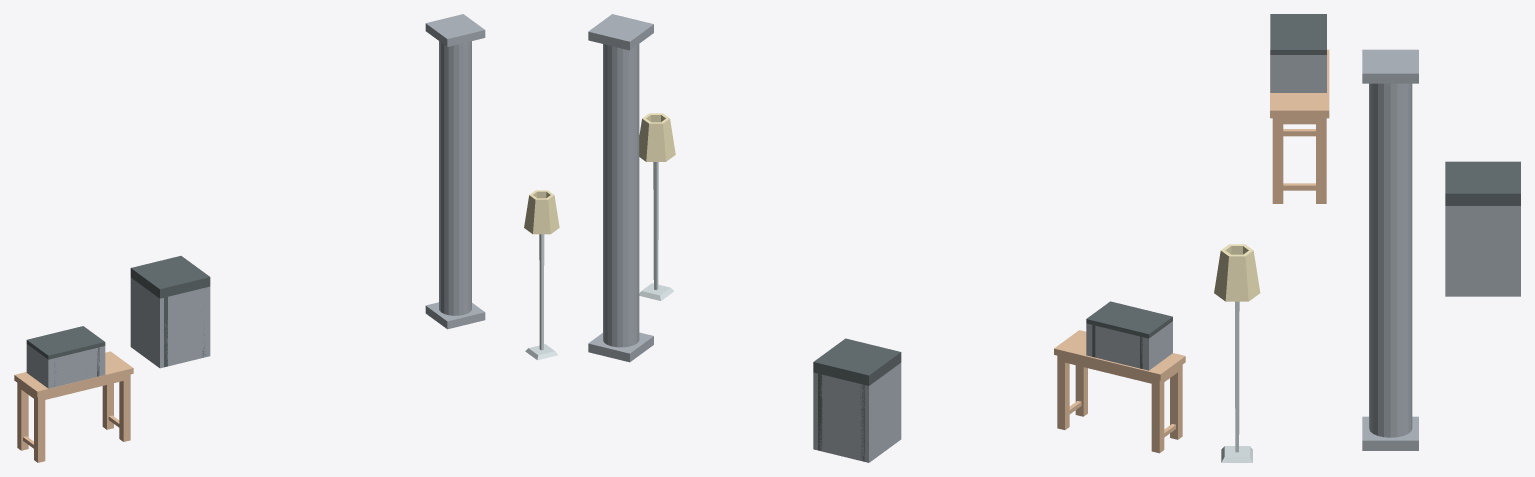
3 renders of one model, left to right at view 1: azimuth 30°, elevation 25°; view 2: azimuth 150°, elevation 25°; view 3: azimuth 270°, elevation 25°, orthographic. The views are drawn at different scales.
Parts seen in each view (by area): view 1: column_cyan__column_cyan shaft, bin_gray__bin_gray shell, sidetable_brown__sideTable(Clone), case_brown__case_brown shell, lamp_white__lampRoundFloor(Clone), bin_gray__bin_gray lid, case_brown__case_brown lid, column_cyan__column_cyan capital, column_cyan__column_cyan plinth; view 2: column_cyan__column_cyan shaft, bin_gray__bin_gray shell, sidetable_brown__sideTable(Clone), case_brown__case_brown shell, lamp_white__lampRoundFloor(Clone), bin_gray__bin_gray lid, case_brown__case_brown lid, column_cyan__column_cyan capital, column_cyan__column_cyan plinth; view 3: column_cyan__column_cyan shaft, bin_gray__bin_gray shell, sidetable_brown__sideTable(Clone), lamp_white__lampRoundFloor(Clone), bin_gray__bin_gray lid, case_brown__case_brown lid, case_brown__case_brown shell, column_cyan__column_cyan capital, column_cyan__column_cyan plinth.
Boxes of the visible parts, x1=… form: column_cyan__column_cyan shaft: x1=439, y1=41, x2=471, y2=315; bin_gray__bin_gray shell: x1=130, y1=277, x2=210, y2=368; sidetable_brown__sideTable(Clone): x1=14, y1=351, x2=133, y2=462; case_brown__case_brown shell: x1=26, y1=344, x2=105, y2=388; lamp_white__lampRoundFloor(Clone): x1=524, y1=190, x2=559, y2=360; bin_gray__bin_gray lid: x1=130, y1=256, x2=210, y2=298; case_brown__case_brown lid: x1=26, y1=326, x2=105, y2=359; column_cyan__column_cyan capital: x1=425, y1=14, x2=485, y2=46; column_cyan__column_cyan plinth: x1=425, y1=302, x2=485, y2=329; column_cyan__column_cyan shaft: x1=603, y1=44, x2=639, y2=347; bin_gray__bin_gray shell: x1=813, y1=363, x2=901, y2=462; sidetable_brown__sideTable(Clone): x1=1054, y1=330, x2=1185, y2=453; case_brown__case_brown shell: x1=1086, y1=321, x2=1172, y2=370; lamp_white__lampRoundFloor(Clone): x1=639, y1=113, x2=675, y2=300; bin_gray__bin_gray lid: x1=813, y1=338, x2=901, y2=385; case_brown__case_brown lid: x1=1086, y1=301, x2=1172, y2=338; column_cyan__column_cyan capital: x1=588, y1=14, x2=653, y2=50; column_cyan__column_cyan plinth: x1=588, y1=332, x2=653, y2=362; column_cyan__column_cyan shaft: x1=1369, y1=83, x2=1412, y2=437; bin_gray__bin_gray shell: x1=1445, y1=206, x2=1520, y2=296; sidetable_brown__sideTable(Clone): x1=1270, y1=49, x2=1329, y2=203; lamp_white__lampRoundFloor(Clone): x1=1214, y1=244, x2=1260, y2=462; bin_gray__bin_gray lid: x1=1445, y1=161, x2=1520, y2=205; case_brown__case_brown lid: x1=1270, y1=14, x2=1326, y2=54; case_brown__case_brown shell: x1=1270, y1=55, x2=1326, y2=92; column_cyan__column_cyan capital: x1=1362, y1=49, x2=1418, y2=83; column_cyan__column_cyan plinth: x1=1362, y1=416, x2=1418, y2=450.
Size of the model in its own units: 4.01 by 2.2 by 1.62.
